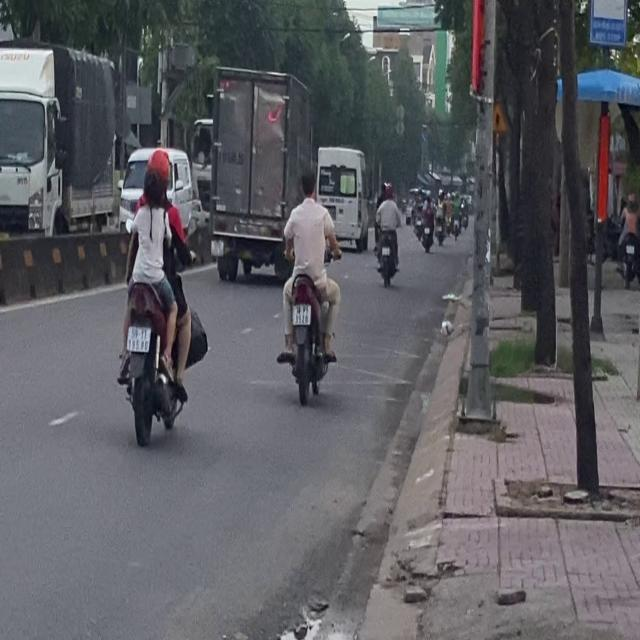helmet: (148, 148, 172, 186)
licenseplate: (114, 144, 195, 444), (275, 166, 340, 402)
motorcyclist: (140, 167, 165, 224), (298, 166, 318, 200)
nohelmet: (127, 325, 150, 351), (292, 304, 310, 324)
